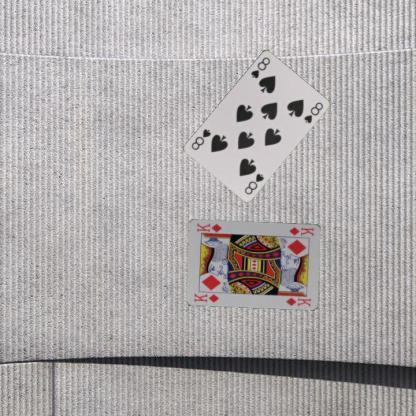8s: (242, 170, 265, 196), (249, 54, 272, 79)
Kd: (192, 290, 221, 304), (287, 224, 315, 238)
